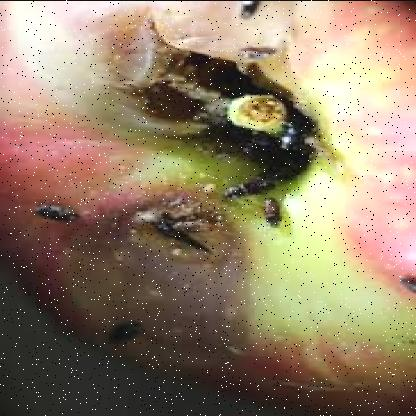damaged_apple: (38, 12, 400, 381)
